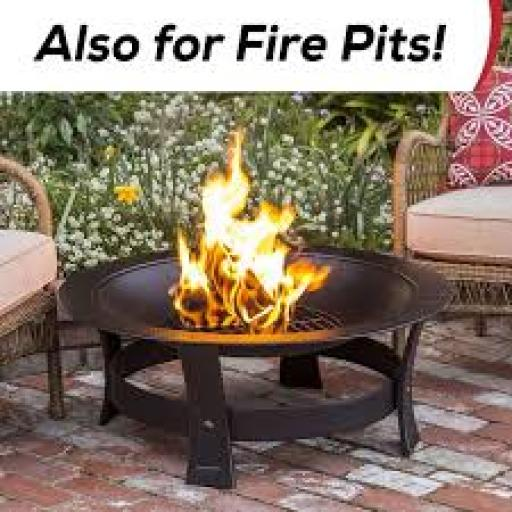fire: (168, 142, 354, 352)
